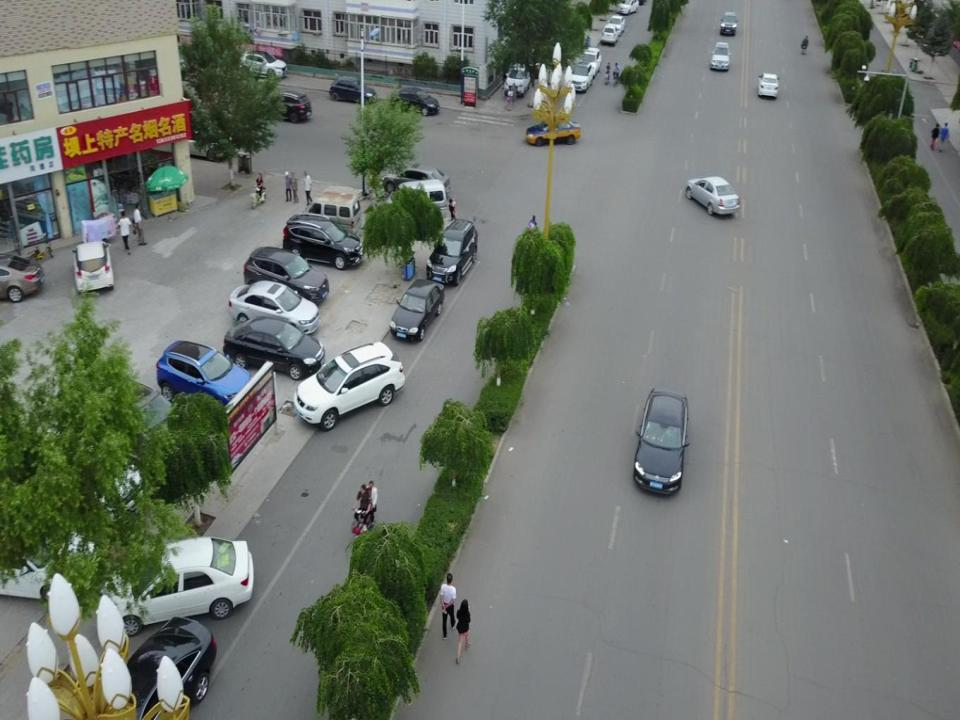car: (111, 536, 255, 634), (293, 342, 407, 431), (119, 616, 215, 714), (2, 520, 102, 600), (156, 341, 258, 409), (633, 390, 691, 498), (223, 316, 325, 376), (245, 245, 329, 307), (230, 281, 324, 334), (283, 214, 366, 272), (427, 219, 480, 288), (388, 278, 445, 342), (684, 174, 744, 219), (73, 238, 114, 292), (380, 164, 449, 196), (526, 119, 582, 144), (242, 49, 288, 76), (506, 63, 532, 96), (570, 56, 592, 92), (757, 70, 777, 97), (584, 45, 603, 73), (714, 42, 729, 66), (718, 9, 734, 31), (601, 22, 615, 46), (611, 12, 626, 32), (618, 1, 639, 13)
van: (382, 180, 447, 223), (0, 250, 41, 304), (311, 186, 364, 225), (258, 86, 310, 123), (387, 86, 440, 114), (331, 75, 374, 106)
